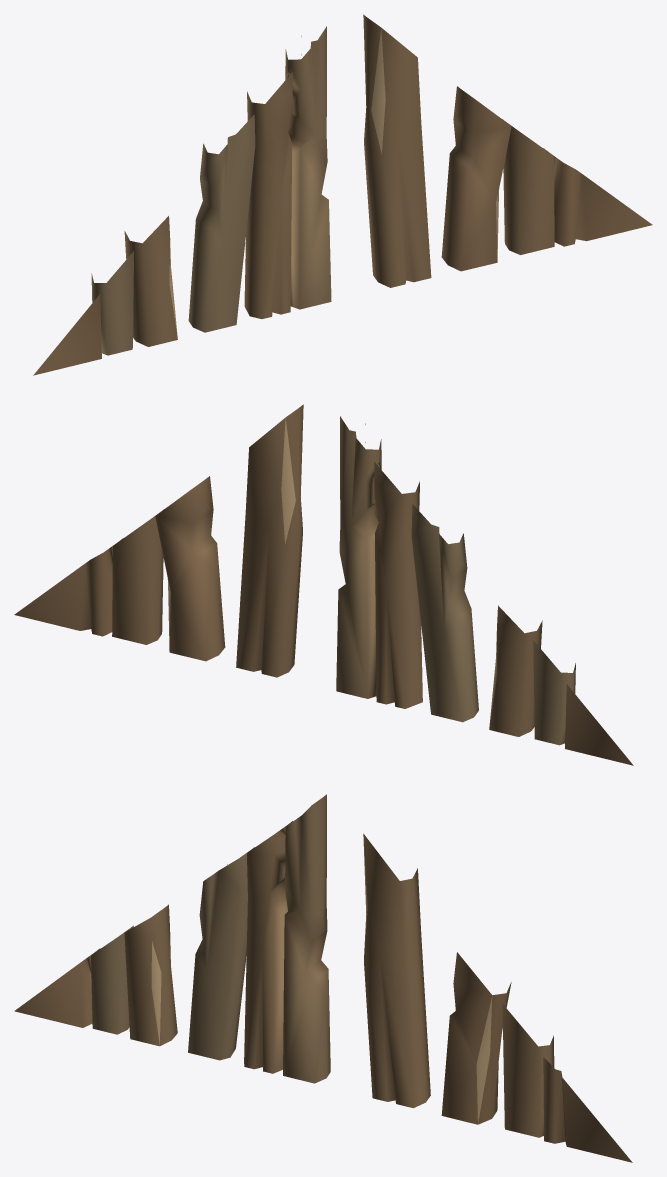
Rendered from rpgpp_av_roof_end_01_6x3_wall_02b.gltf.
The picture shows the model from 3 angles, top to bottom: view 1: azimuth 30°, elevation 25°; view 2: azimuth 150°, elevation 25°; view 3: azimuth 330°, elevation 25°; orthographic projection.
Parts seen in each view (by area): view 1: rpgpp_av_roof_end_01_6x3_wall_02b; view 2: rpgpp_av_roof_end_01_6x3_wall_02b; view 3: rpgpp_av_roof_end_01_6x3_wall_02b.
Part boxes in pixels (bbox=[...]): rpgpp_av_roof_end_01_6x3_wall_02b: bbox=[33, 14, 652, 375]; rpgpp_av_roof_end_01_6x3_wall_02b: bbox=[14, 404, 633, 765]; rpgpp_av_roof_end_01_6x3_wall_02b: bbox=[14, 794, 632, 1162].
Bounding box in the file's own units: 0.0694 × 0.03 × 0.00388.
Materials: 1 (1 with a texture image).
